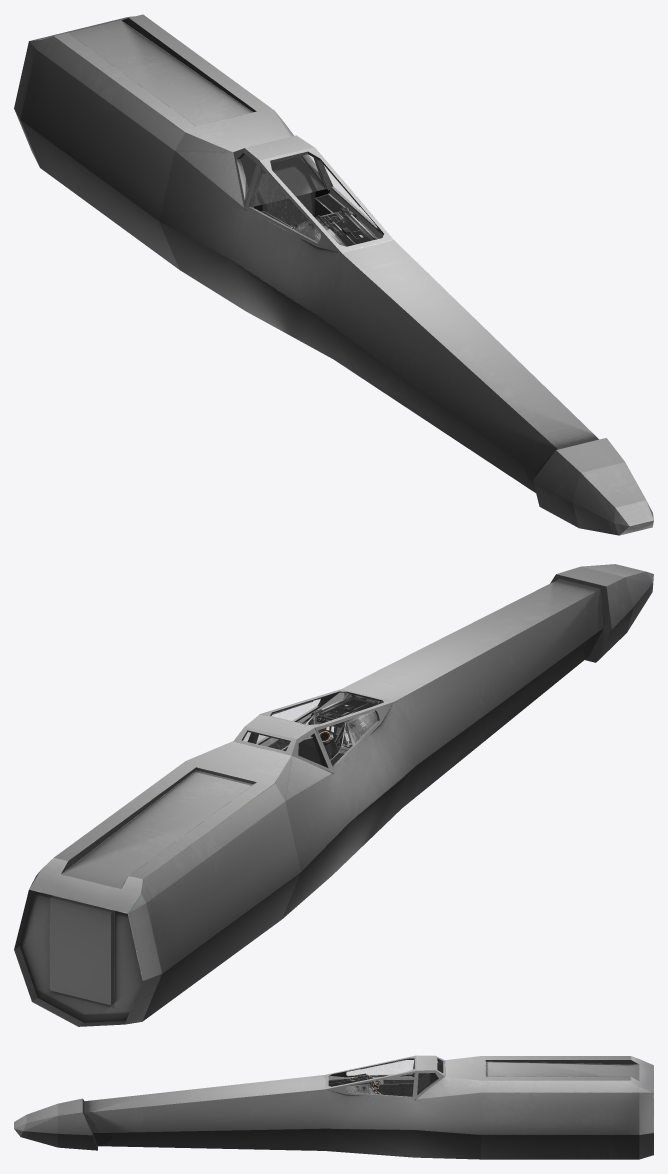
Rendered from astra_cockpit.glb.
The picture shows the model from 3 angles, top to bottom: view 1: azimuth 30°, elevation 25°; view 2: azimuth 150°, elevation 25°; view 3: azimuth 270°, elevation 25°; orthographic projection. The views are drawn at different scales.
Parts seen in each view (by area): view 1: hull, canopy, windows, tripo_node_001b9d78-f948-4e66-bde1-d75e3e3d00b1, canopy_back, cockpit_1; view 2: hull, windows, tripo_node_001b9d78-f948-4e66-bde1-d75e3e3d00b1, canopy_back, canopy; view 3: hull, windows, canopy, tripo_node_001b9d78-f948-4e66-bde1-d75e3e3d00b1, canopy_back, cockpit_1.
Boxes of the visible parts, left/top/right/bottom form: hull: left=14, top=14, right=653, bottom=535; canopy: left=245, top=147, right=393, bottom=252; windows: left=249, top=155, right=372, bottom=242; tripo_node_001b9d78-f948-4e66-bde1-d75e3e3d00b1: left=260, top=194, right=376, bottom=246; canopy_back: left=233, top=135, right=326, bottom=208; cockpit_1: left=254, top=189, right=331, bottom=226; hull: left=14, top=564, right=653, bottom=1026; windows: left=242, top=699, right=378, bottom=767; tripo_node_001b9d78-f948-4e66-bde1-d75e3e3d00b1: left=267, top=697, right=378, bottom=765; canopy_back: left=233, top=714, right=332, bottom=772; canopy: left=255, top=689, right=393, bottom=772; hull: left=14, top=1056, right=653, bottom=1159; windows: left=346, top=1059, right=442, bottom=1096; canopy: left=325, top=1055, right=416, bottom=1099; tripo_node_001b9d78-f948-4e66-bde1-d75e3e3d00b1: left=328, top=1075, right=413, bottom=1094; canopy_back: left=414, top=1055, right=444, bottom=1098; cockpit_1: left=377, top=1084, right=413, bottom=1096.
Bounding box in the file's own units: 2.12 × 2.29 × 14.58.
Materials: 19 (17 with a texture image).
